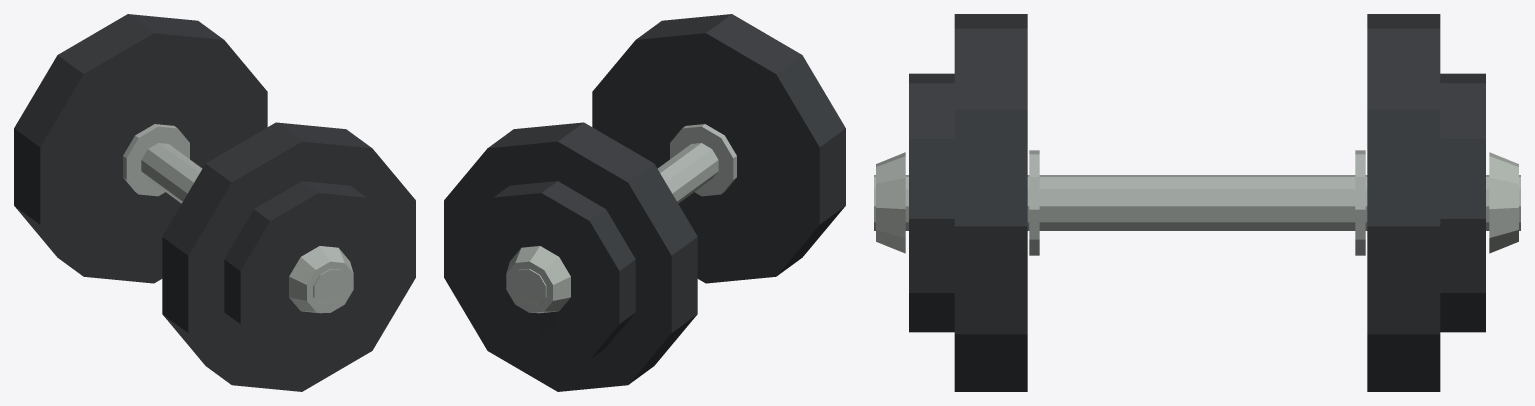
Rendered from Dumbbell.fbx.
3 renders of one model, left to right at view 1: azimuth 30°, elevation 25°; view 2: azimuth 150°, elevation 25°; view 3: azimuth 270°, elevation 25°, orthographic. The views are drawn at different scales.
Parts seen in each view (by area): view 1: Cylinder.001, Cylinder; view 2: Cylinder.001, Cylinder; view 3: Cylinder.001, Cylinder.
Part boxes in pixels (x1,y1,x2,y2): Cylinder.001: (14,14,415,391); Cylinder: (123,124,353,313); Cylinder.001: (444,14,845,391); Cylinder: (506,124,736,313); Cylinder.001: (909,14,1485,391); Cylinder: (874,150,1520,255).
Size of the model in its own units: 63.9 by 67.19 by 113.
